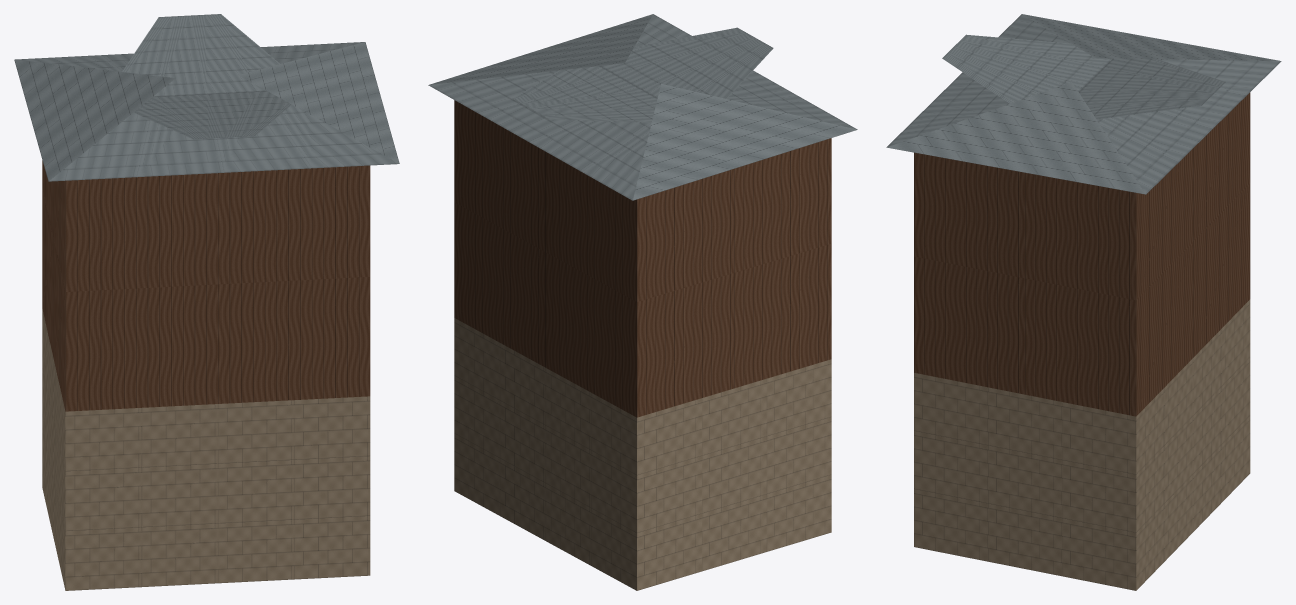
The model's file is bld_c-26_22_690.gltf.
3 renders of one model, left to right at view 1: azimuth 30°, elevation 25°; view 2: azimuth 150°, elevation 25°; view 3: azimuth 270°, elevation 25°, orthographic. The views are drawn at different scales.
Visible parts, largest first — view 1: bld_c-26_22_690; view 2: bld_c-26_22_690; view 3: bld_c-26_22_690.
Part boxes in pixels (x1,y1,x2,y2): bld_c-26_22_690: (14,14,399,590); bld_c-26_22_690: (428,14,857,590); bld_c-26_22_690: (886,14,1281,590).
Bounding box in the file's own units: 11.34 × 12.9 × 10.49.
3 materials, 3 textured.
